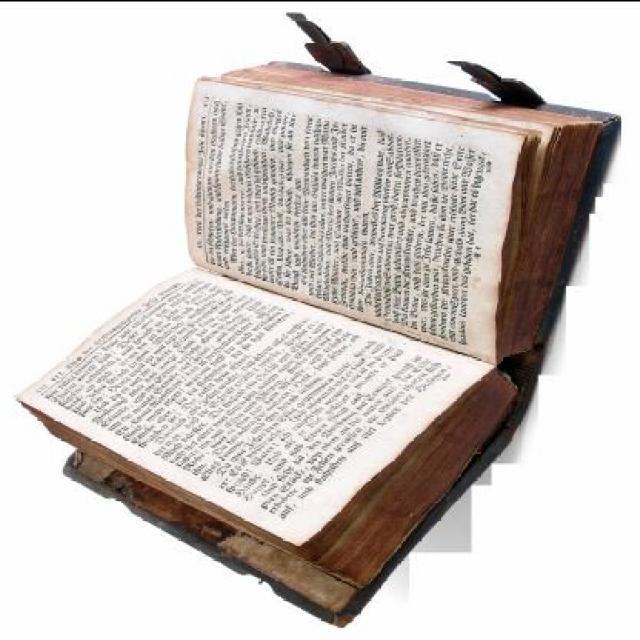pen: (14, 11, 596, 607)
